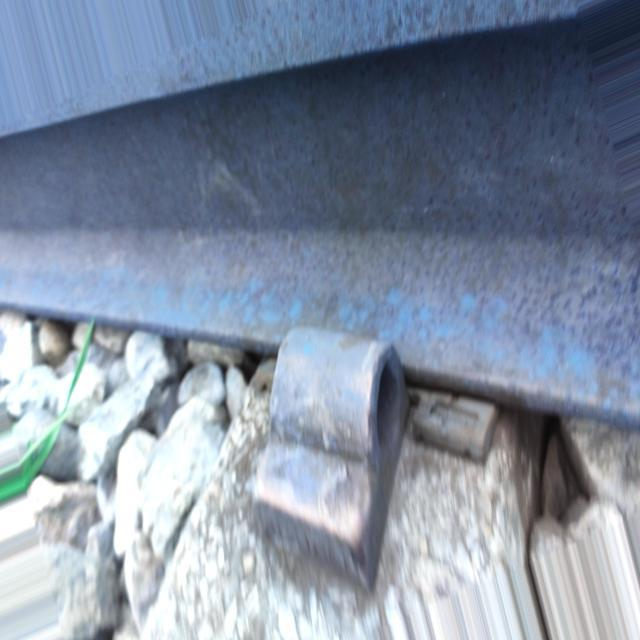Missing Fastener: (233, 285, 443, 608)
